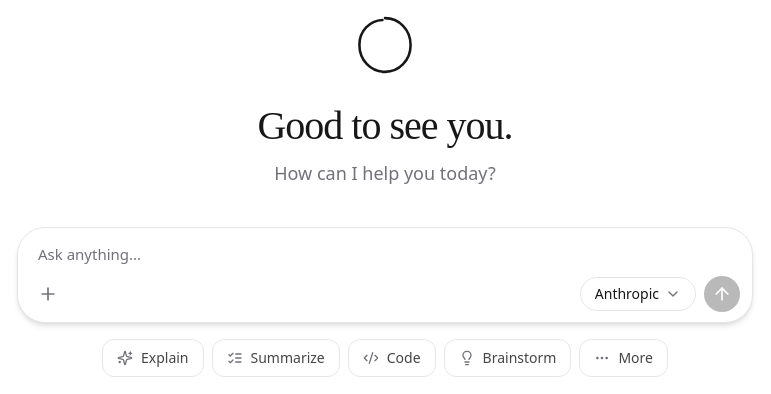
Scenario: HomeChat › a suggestion chip pre-fills the composer
Click the button "Summarize" at (276, 358), box [212, 339, 340, 377]
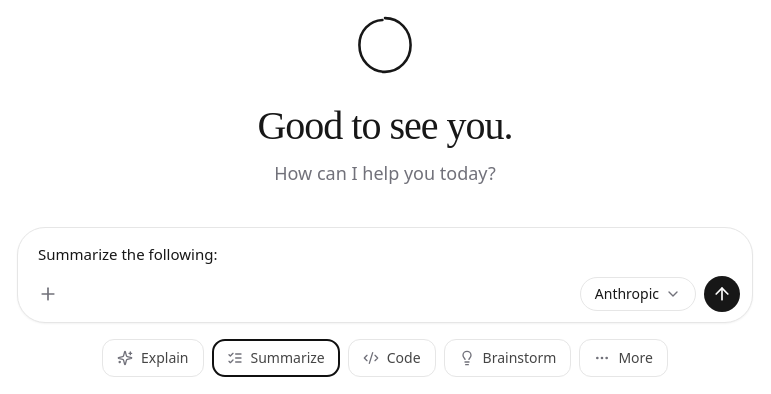
Now the text box named "message-input" holds "Summarize the following: ", box [30, 238, 740, 270]
